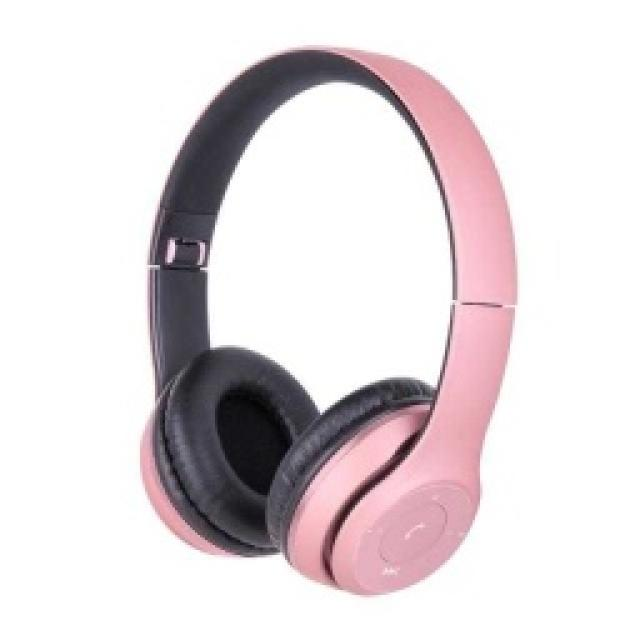headphones: (138, 43, 518, 595)
